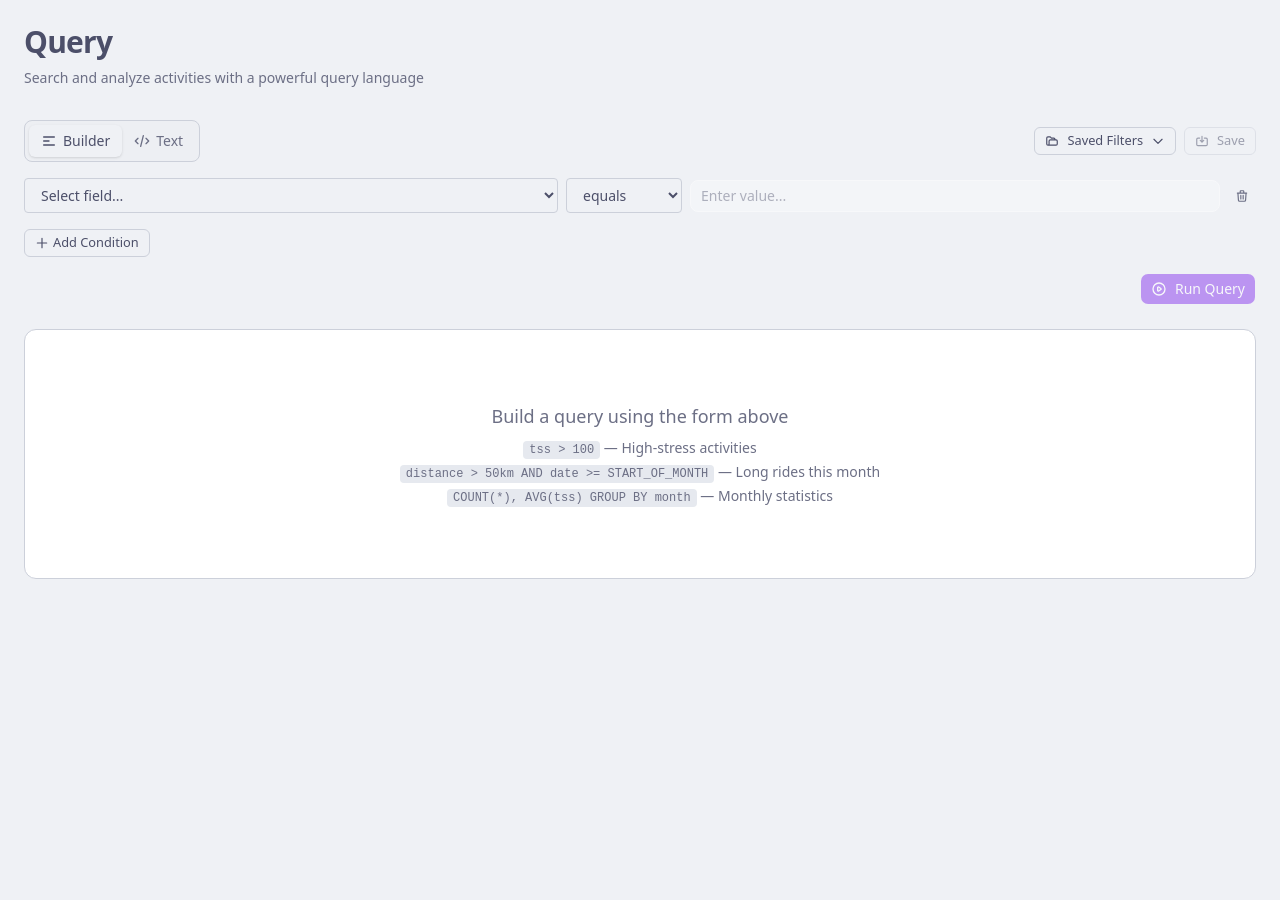
QueryPage › list results › shows no results message for empty list
The image size is (1280, 900).
Click the button "Text" at (159, 141), box [122,125,195,157]
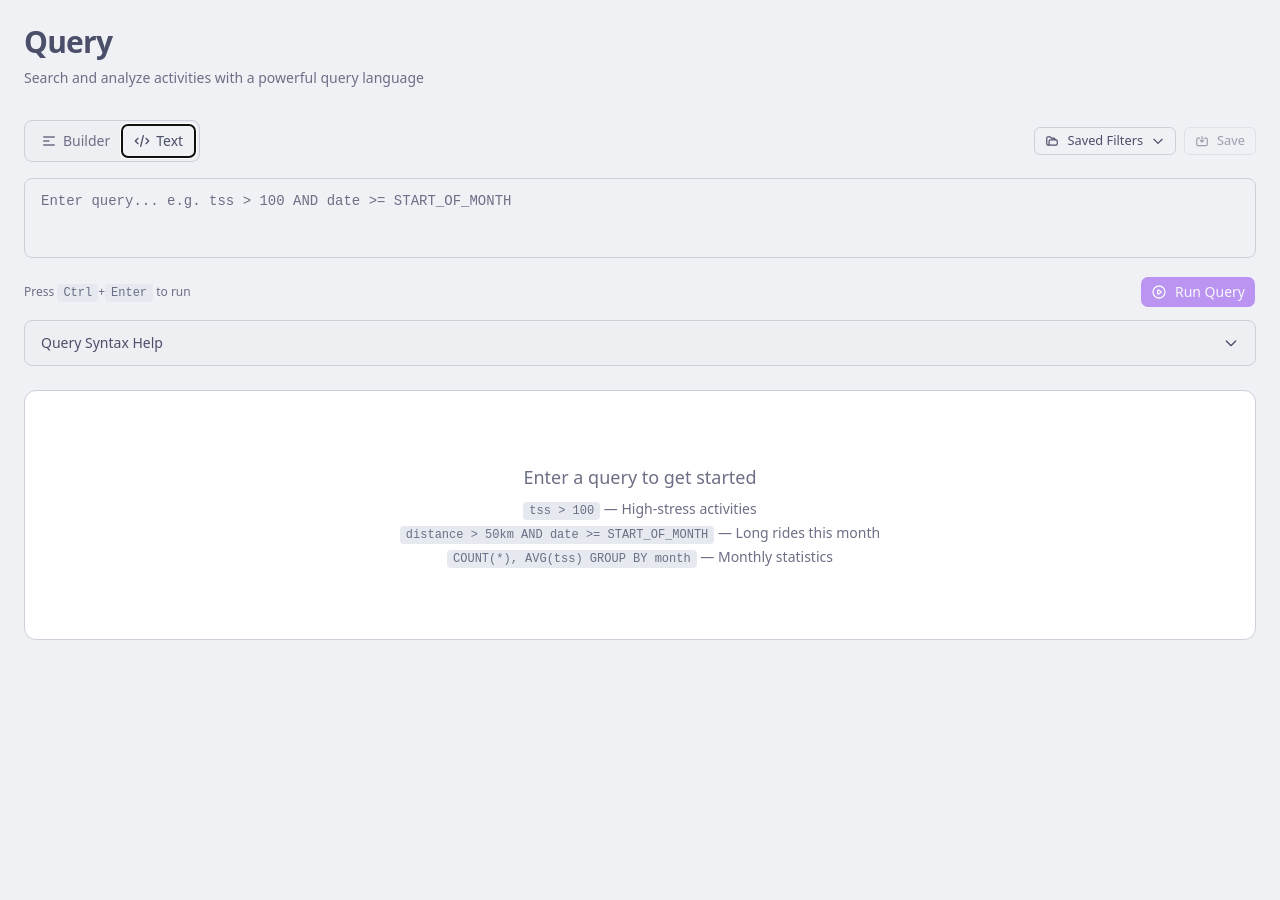
Type "tss > 9999" into the text box with placeholder "Enter query... e.g. tss > 100 AND date >= START_OF_MONTH" at (640, 218), box [24,178,1256,258]
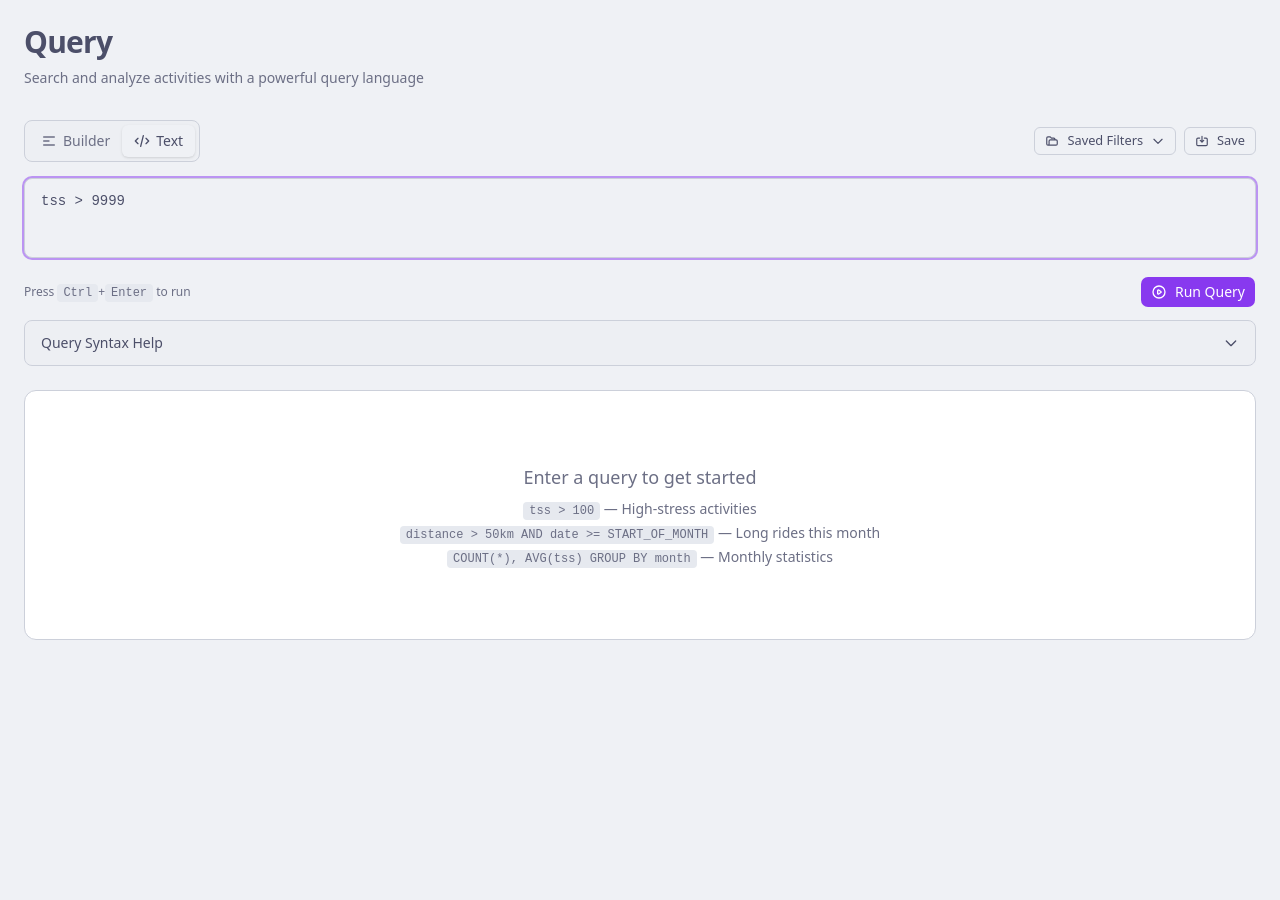
Click the button "Run Query" at (1198, 292), box [1140,276,1256,308]
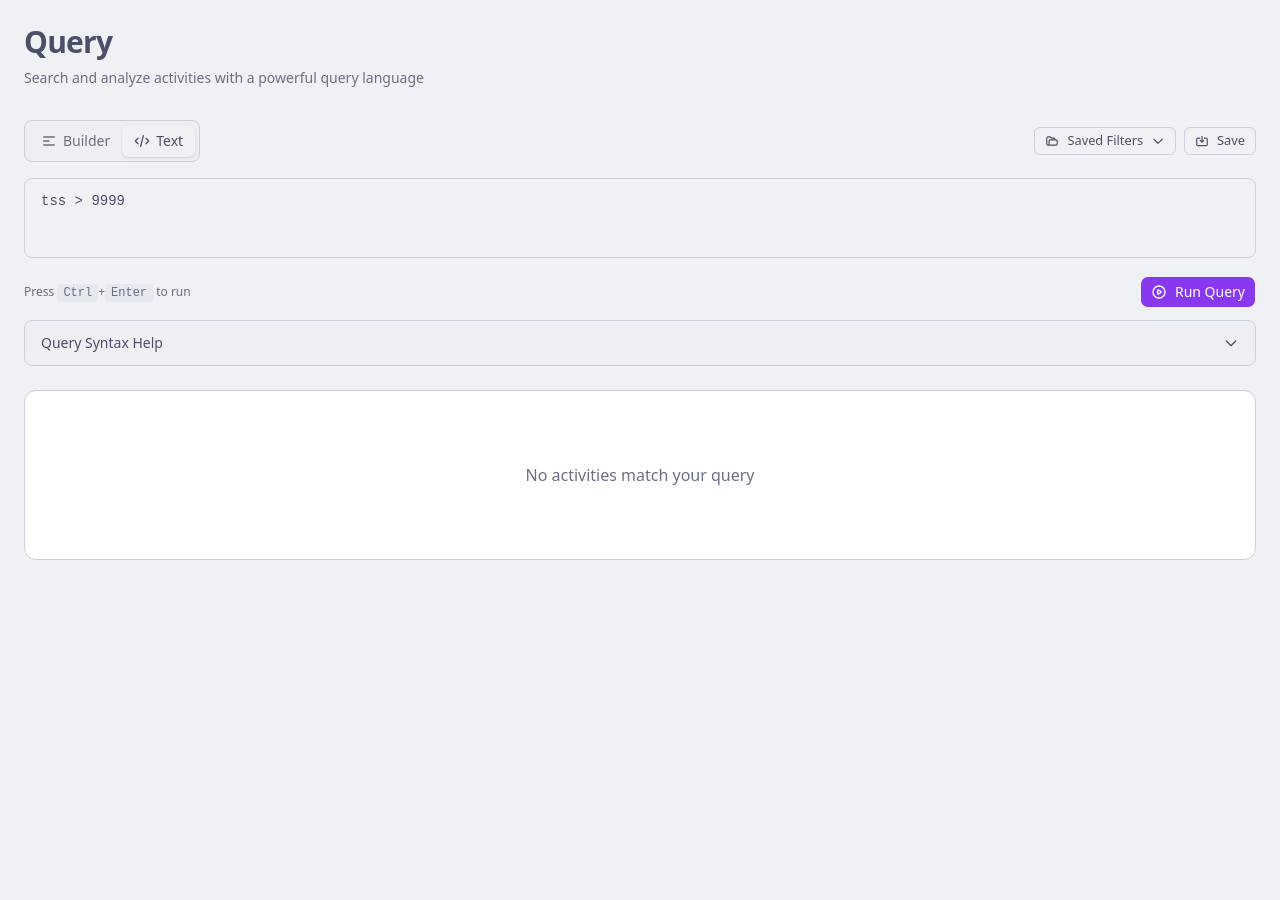
Expected: the text "No activities match your query" is shown, [526,464,754,486]
